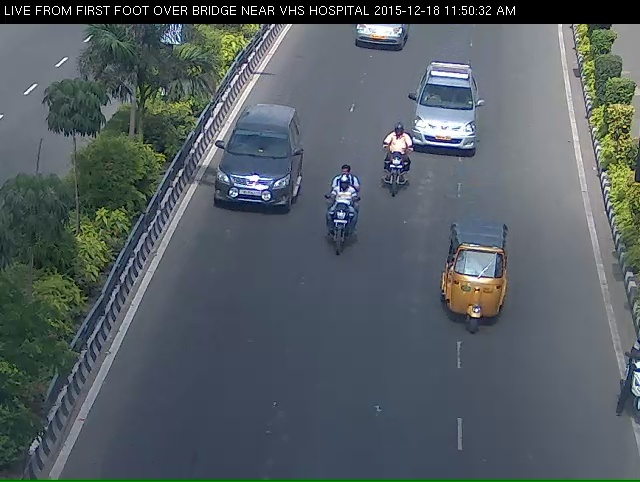Car: (441, 238, 513, 360), (210, 124, 290, 233), (412, 75, 479, 167), (347, 24, 408, 59)
Person: (322, 189, 356, 267), (379, 141, 402, 200)
